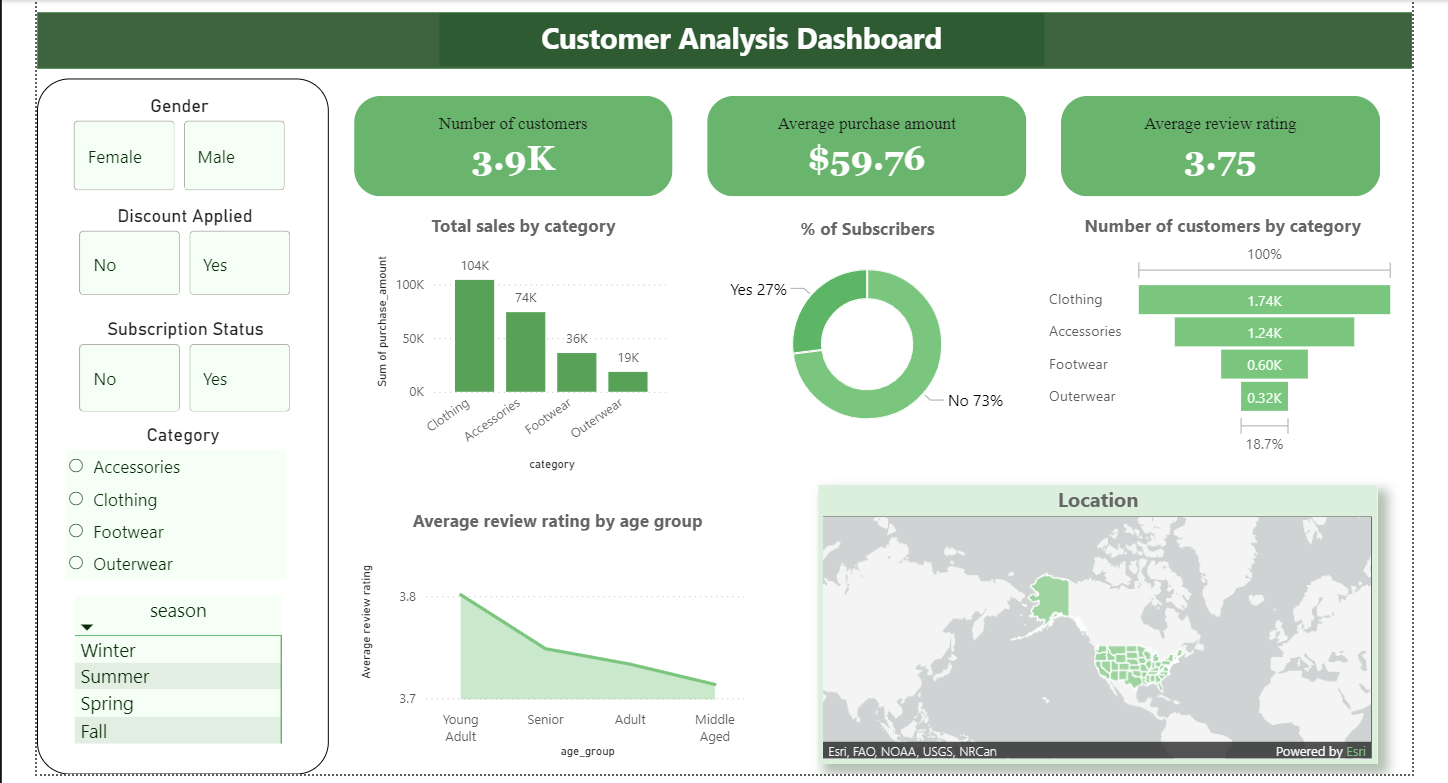

The dashboard page shown, as its layout file describes it:
{"tool":"powerbi","page":{"name":"Page 1","canvas":[1280,720],"ordinal":0},"visuals":[{"type":"cardVisual","fields":{"Data":["customer_behavior.Number of customers","customer_behavior.Average of purchase amount","customer_behavior.Average of review rating"]},"box":[266.2,59.7,1014.1,152.4],"z":0},{"type":"textbox","box":[0,72.9,271.7,647.3],"z":1000},{"type":"donutChart","title":"% of Subscribers","fields":{"Y":["customer_behavior.Number of customers"],"Category":["customer_behavior.subscription_status"]},"box":[624.1,201,298.3,218.7],"z":2000},{"type":"advancedSlicerVisual","title":"Gender","fields":{"Values":["customer_behavior.gender"]},"box":[29.8,88.4,206.6,95],"z":3000},{"type":"columnChart","title":"Total sales by category","fields":{"Category":["customer_behavior.category"],"Y":["Sum(customer_behavior.purchase_amount)"]},"box":[311.5,198.8,282.8,244.1],"z":4000},{"type":"funnel","fields":{"Category":["customer_behavior.category"],"Y":["customer_behavior.Number of customers"]},"box":[936.7,198.8,332.5,229.8],"z":5000},{"type":"advancedSlicerVisual","title":"Discount Applied","fields":{"Values":["customer_behavior.discount_applied"]},"box":[34.2,191.1,206.6,89.5],"z":6000},{"type":"listSlicer","title":"Category","fields":{"Values":["customer_behavior.category"]},"box":[22.1,394.4,227.6,155.8],"z":7000},{"type":"pivotTable","fields":{"Rows":["customer_behavior.season"]},"box":[30.9,550.1,206.6,165.7],"z":8000},{"type":"areaChart","title":"Average review rating by age group","fields":{"Y":["customer_behavior.Average review rating"],"Category":["customer_behavior.age_group"]},"box":[296,472.8,376.7,237.5],"z":9000},{"type":"advancedSlicerVisual","title":"Subscription Status","fields":{"Values":["customer_behavior.subscription_status"]},"box":[34.2,296,207.7,92.8],"z":10000},{"type":"esriVisual","title":"Location","fields":{"Location":["customer_behavior.location"]},"box":[726.9,451.8,520.3,259.6],"z":11000},{"type":"shape","box":[0,11,1280.3,53],"z":12501},{"type":"textbox","box":[374.3,12.2,563,49.7],"z":13001}]}

Visuals, with their boxes in screenshot pixels (x1, y1, x2, y2):
cardVisual - customer_behavior.Number of customers x customer_behavior.Average of purchase amount: x1=316, y1=60, x2=1406, y2=224
textbox: x1=30, y1=75, x2=322, y2=770
"% of Subscribers" donutChart: x1=701, y1=212, x2=1021, y2=447
"Gender" advancedSlicerVisual: x1=62, y1=91, x2=284, y2=193
"Total sales by category" columnChart: x1=365, y1=210, x2=669, y2=472
funnel - customer_behavior.category x customer_behavior.Number of customers: x1=1036, y1=210, x2=1394, y2=457
"Discount Applied" advancedSlicerVisual: x1=67, y1=202, x2=289, y2=298
"Category" listSlicer: x1=54, y1=420, x2=298, y2=587
pivotTable - customer_behavior.season: x1=63, y1=587, x2=285, y2=765
"Average review rating by age group" areaChart: x1=348, y1=504, x2=753, y2=759
"Subscription Status" advancedSlicerVisual: x1=67, y1=314, x2=290, y2=414
"Location" esriVisual: x1=811, y1=482, x2=1370, y2=760
shape: x1=30, y1=8, x2=1406, y2=65
textbox: x1=432, y1=9, x2=1037, y2=63
